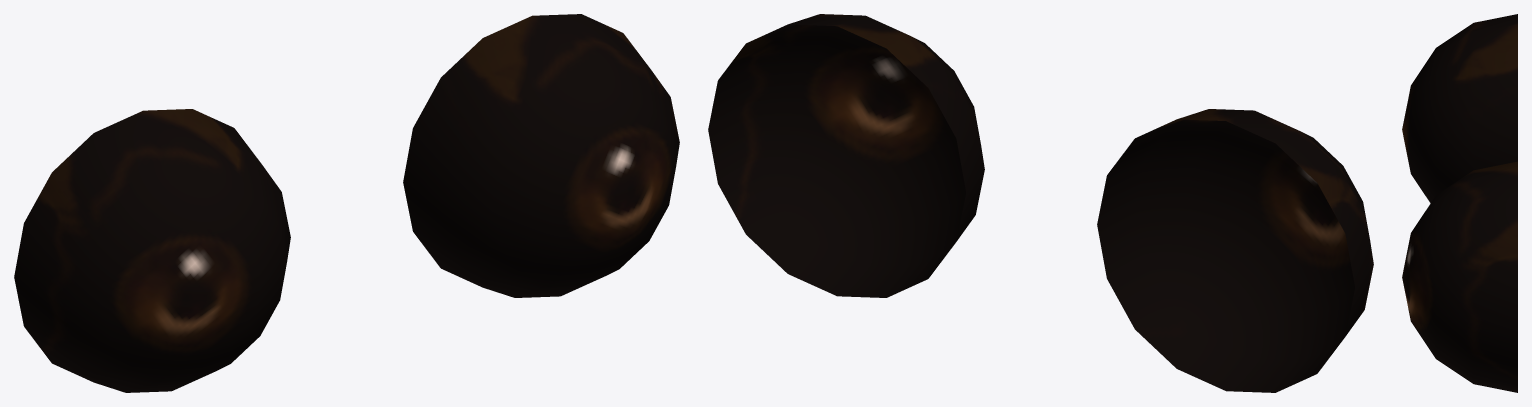
Rendered from dog1.fbx.
3 views of the same model, side by side, from view 1: azimuth 30°, elevation 25°; view 2: azimuth 150°, elevation 25°; view 3: azimuth 270°, elevation 25° (orthographic). The views are drawn at different scales.
Visible parts, largest first — view 1: Object001.001; view 2: Object001.001; view 3: Object001.001.
Boxes of the visible parts, x1,y1,x2,y2 form: Object001.001: (14, 14, 679, 392); Object001.001: (708, 14, 1373, 392); Object001.001: (1402, 14, 1517, 392).
Size of the model in its own units: 19.49 by 7.77 by 3.89.
1 material, 1 textured.
